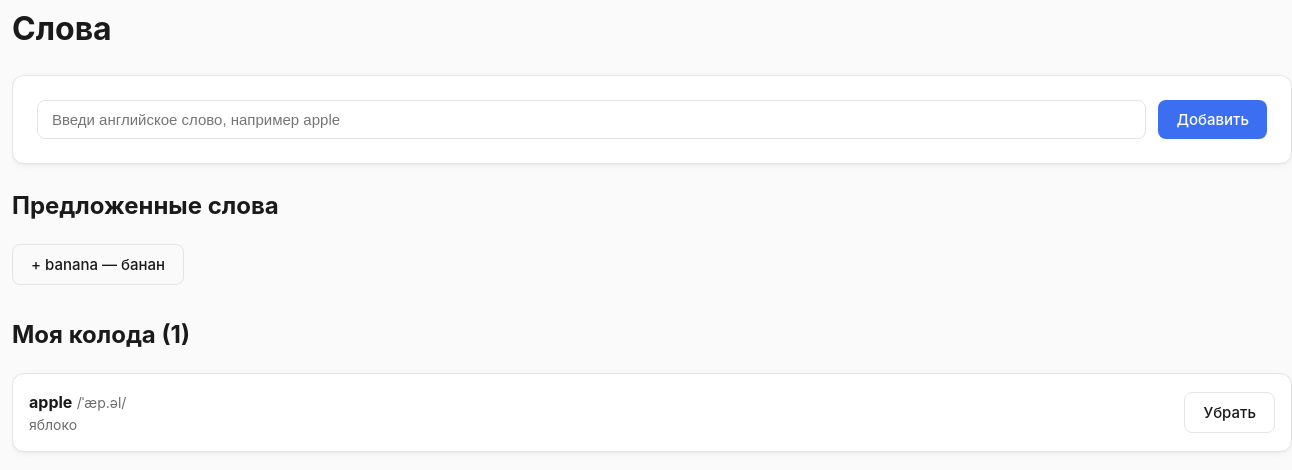
Test: Words - removing a word › removes the word from the deck after clicking Убрать
Expected: the heading "Моя колода (1)" is shown, [12,320,190,349]
Click the button "Убрать".
click(1230, 412)  # box [1184,392,1275,433]
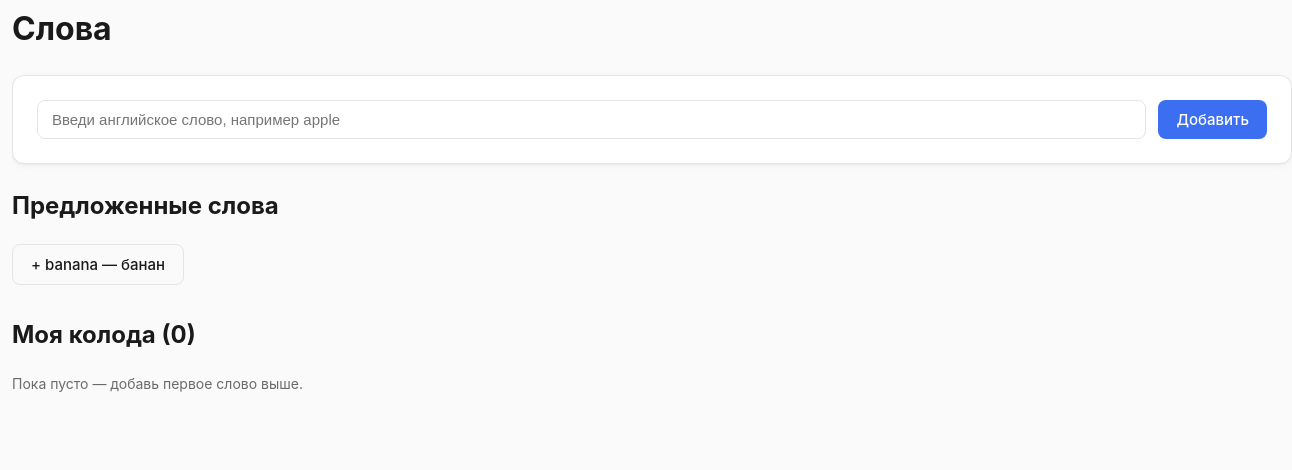
Expected: the heading "Моя колода (0)" is shown, [12,320,196,349]
Expected: the text "Пока пусто — добавь первое слово выше." is shown, [12,375,303,392]
